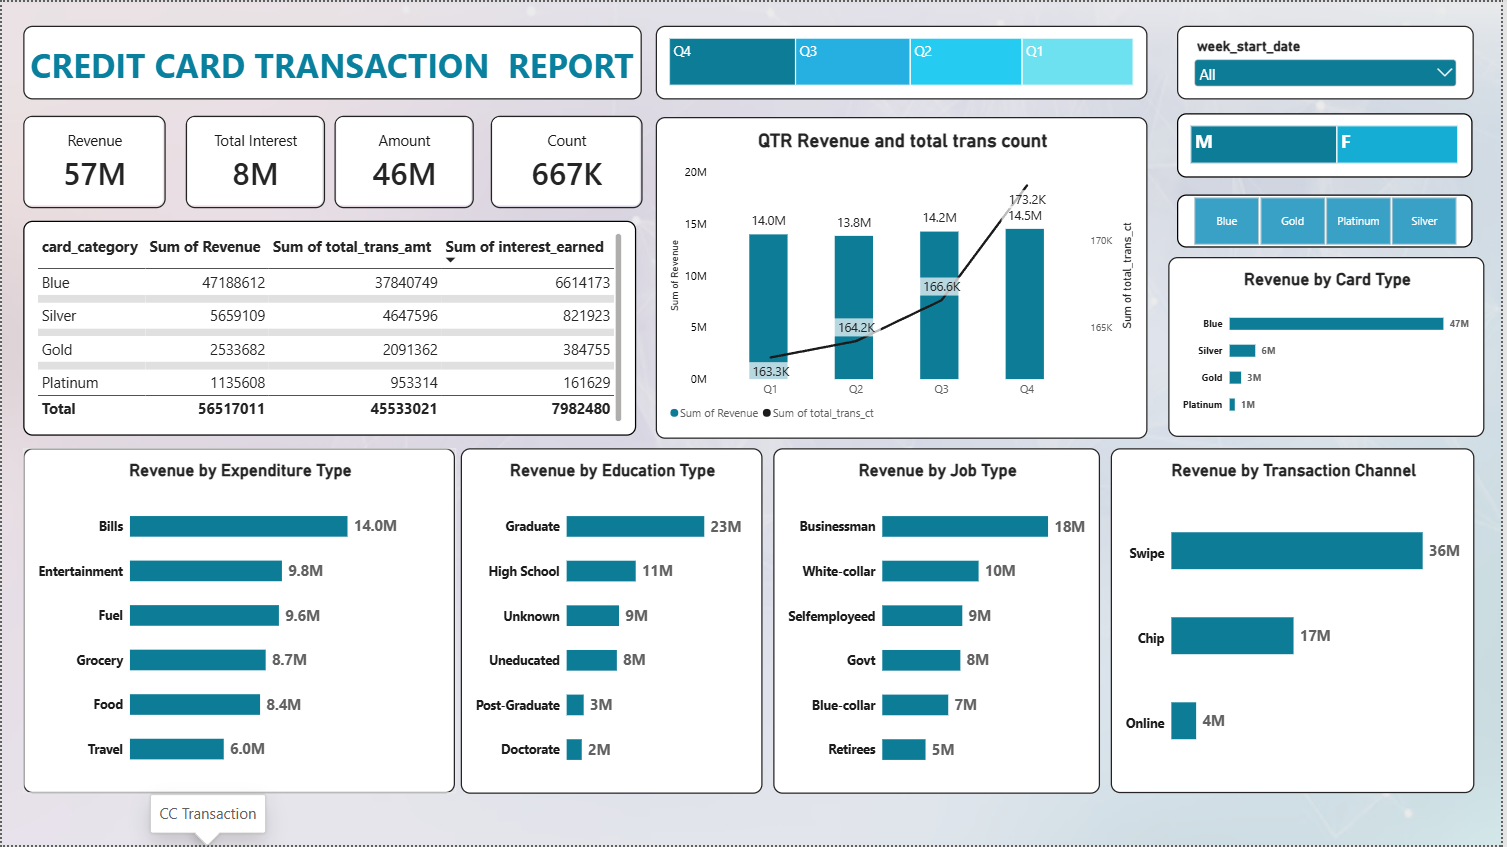

What the dashboard file says about the page in this screenshot:
{"tool":"powerbi","page":{"name":"CC Transaction","canvas":[1920,1080],"ordinal":1},"visuals":[{"type":"textbox","box":[28,30,792,94],"z":0},{"type":"lineStackedColumnComboChart","title":"QTR Revenue and total trans count","fields":{"Category":["public cc_detail.qtr"],"Y":["Sum(public cc_detail.Revenue)"],"Y2":["Sum(public cc_detail.total_trans_ct)"]},"box":[837.2,146.5,629.7,411.6],"z":1000},{"type":"barChart","title":" Revenue by Expenditure Type","fields":{"Category":["public cc_detail.exp_type"],"Y":["Sum(public cc_detail.Revenue)"]},"box":[27.9,572.1,552.9,441.3],"z":2000},{"type":"barChart","title":" Revenue by Education Type","fields":{"Category":["public cust_detail.education_level"],"Y":["Sum(public cc_detail.Revenue)"]},"box":[588,572,386,442],"z":3000},{"type":"barChart","title":" Revenue by Job Type","fields":{"Category":["public cust_detail.customer_job"],"Y":["Sum(public cc_detail.Revenue)"]},"box":[988,572,418,442],"z":4000},{"type":"barChart","title":" Revenue by Card Type","fields":{"Category":["public cc_detail.card_category"],"Y":["Sum(public cc_detail.Revenue)"]},"box":[1493,326.2,404.7,230.2],"z":5000},{"type":"barChart","title":"Revenue by Transaction Channel","fields":{"Category":["public cc_detail.use_chip"],"Y":["Sum(public cc_detail.Revenue)"]},"box":[1419.8,572.1,465.7,441.3],"z":6000},{"type":"tableEx","fields":{"Values":["public cc_detail.card_category","Sum(public cc_detail.Revenue)","Sum(public cc_detail.total_trans_amt)","Sum(public cc_detail.interest_earned)"]},"box":[27.9,280.8,784.9,275.6],"z":7000},{"type":"cardVisual","fields":{"Data":["Sum(public cc_detail.Revenue)"]},"box":[28,146,182,118],"z":8000},{"type":"cardVisual","fields":{"Data":["Sum(public cc_detail.total_trans_amt)"]},"box":[426,146,178,118],"z":9000},{"type":"cardVisual","fields":{"Data":["Sum(public cc_detail.interest_earned)"]},"box":[236,146,178,118],"z":10000},{"type":"cardVisual","fields":{"Data":["Sum(public cc_detail.total_trans_ct)"]},"box":[626,146,194,118],"z":11000},{"type":"slicer","fields":{"Values":["public cc_detail.week_start_date"]},"box":[1505.2,29.7,380.2,94.2],"z":12000},{"type":"treemap","fields":{"Group":["public cc_detail.qtr"],"Values":["Avg(public cc_detail.client_num)"]},"box":[837.2,29.7,629.7,94.2],"z":13000},{"type":"treemap","fields":{"Group":["public cust_detail.gender"],"Values":["Sum(public cc_detail.Revenue)"]},"box":[1505.2,143,378,82],"z":14000},{"type":"slicer","fields":{"Values":["public cc_detail.card_category"]},"box":[1505.2,245.9,378.5,68],"z":15000}]}

Visuals, with their boxes in screenshot pixels (x1, y1, x2, y2), scaled from the page's 1920x1080 canvas onto the 1507x847 screenshot:
textbox: 22,24,644,97
"QTR Revenue and total trans count" lineStackedColumnComboChart: 657,115,1151,438
" Revenue by Expenditure Type" barChart: 22,449,456,795
" Revenue by Education Type" barChart: 462,449,764,795
" Revenue by Job Type" barChart: 775,449,1104,795
" Revenue by Card Type" barChart: 1172,256,1489,436
"Revenue by Transaction Channel" barChart: 1114,449,1480,795
tableEx - public cc_detail.card_category x Sum(public cc_detail.Revenue): 22,220,638,436
cardVisual - Sum(public cc_detail.Revenue): 22,115,165,207
cardVisual - Sum(public cc_detail.total_trans_amt): 334,115,474,207
cardVisual - Sum(public cc_detail.interest_earned): 185,115,325,207
cardVisual - Sum(public cc_detail.total_trans_ct): 491,115,644,207
slicer - public cc_detail.week_start_date: 1181,23,1480,97
treemap - public cc_detail.qtr x Avg(public cc_detail.client_num): 657,23,1151,97
treemap - public cust_detail.gender x Sum(public cc_detail.Revenue): 1181,112,1478,176
slicer - public cc_detail.card_category: 1181,193,1479,246
